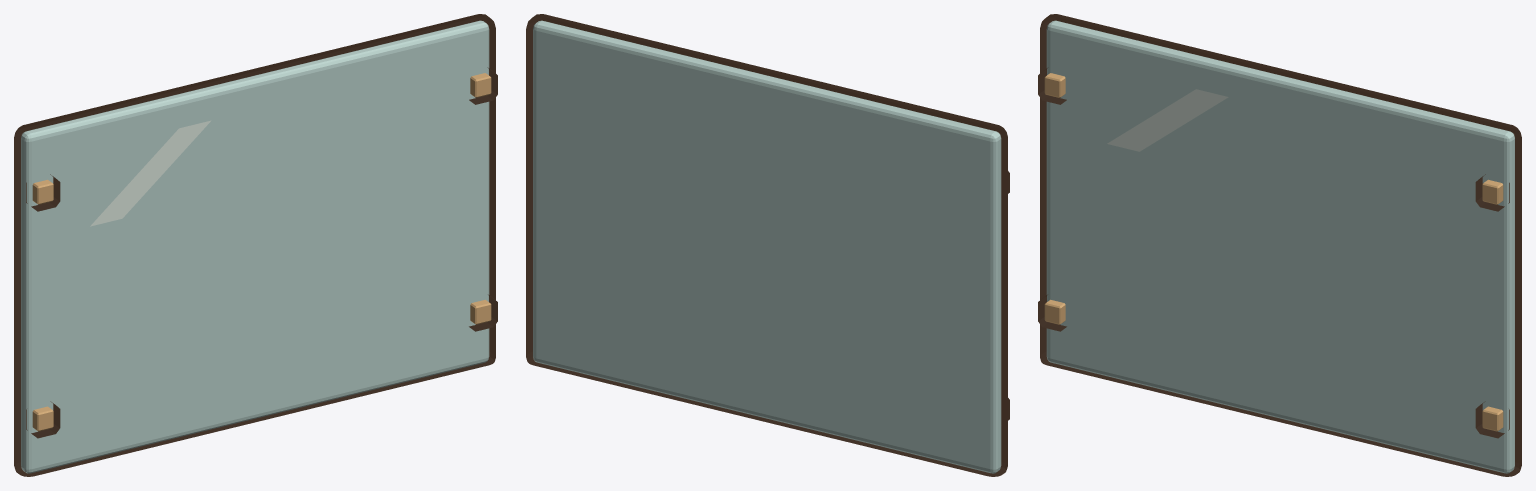
The model's file is botanic-window.glb.
The picture shows the model from 3 angles, left to right: view 1: azimuth 30°, elevation 25°; view 2: azimuth 150°, elevation 25°; view 3: azimuth 330°, elevation 25°; orthographic projection.
Visible parts, largest first — view 1: botanic-window, botanic-window-outline; view 2: botanic-window, botanic-window-outline; view 3: botanic-window, botanic-window-outline.
Boxes of the visible parts, x1,y1,x2,y2 form: botanic-window: [21, 20, 491, 473]; botanic-window-outline: [14, 14, 497, 476]; botanic-window: [533, 20, 1001, 473]; botanic-window-outline: [526, 14, 1009, 476]; botanic-window: [1044, 20, 1514, 473]; botanic-window-outline: [1038, 14, 1521, 476].
Size of the model in its own units: 1.44 by 0.9973 by 0.1045.
